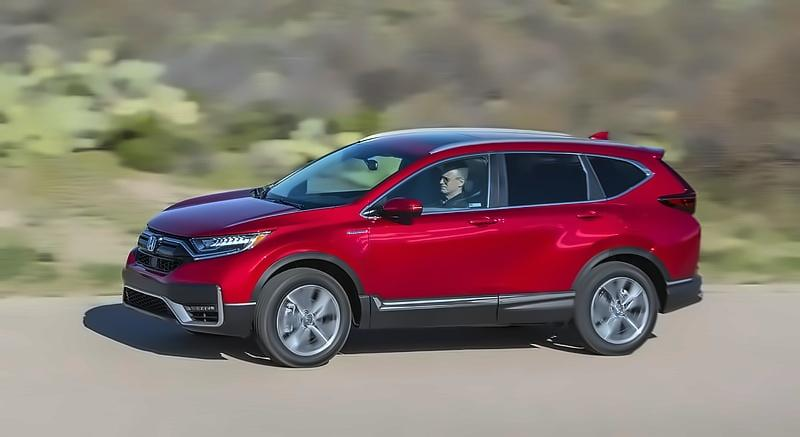Car hood: (142, 181, 337, 242)
Fender - -F-L-: (259, 198, 372, 314)
Fender - -R-L-: (615, 181, 691, 268)
Front bumper: (114, 244, 272, 343)
Headlight - -L-: (178, 226, 278, 263)
Passenger-s door - -F-L-: (371, 149, 499, 315)
Passenger-s door - -R-L-: (498, 150, 615, 315)
Rear bumper: (656, 242, 710, 313)
Rear light - -L-: (653, 155, 703, 215)
Side bumper - -L-: (353, 287, 580, 332)
Side mirror - -L-: (373, 195, 427, 226)
